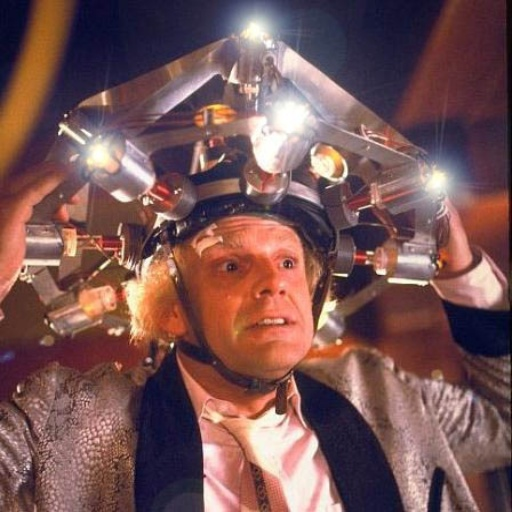hand: (369, 178, 478, 281), (0, 156, 77, 285)
